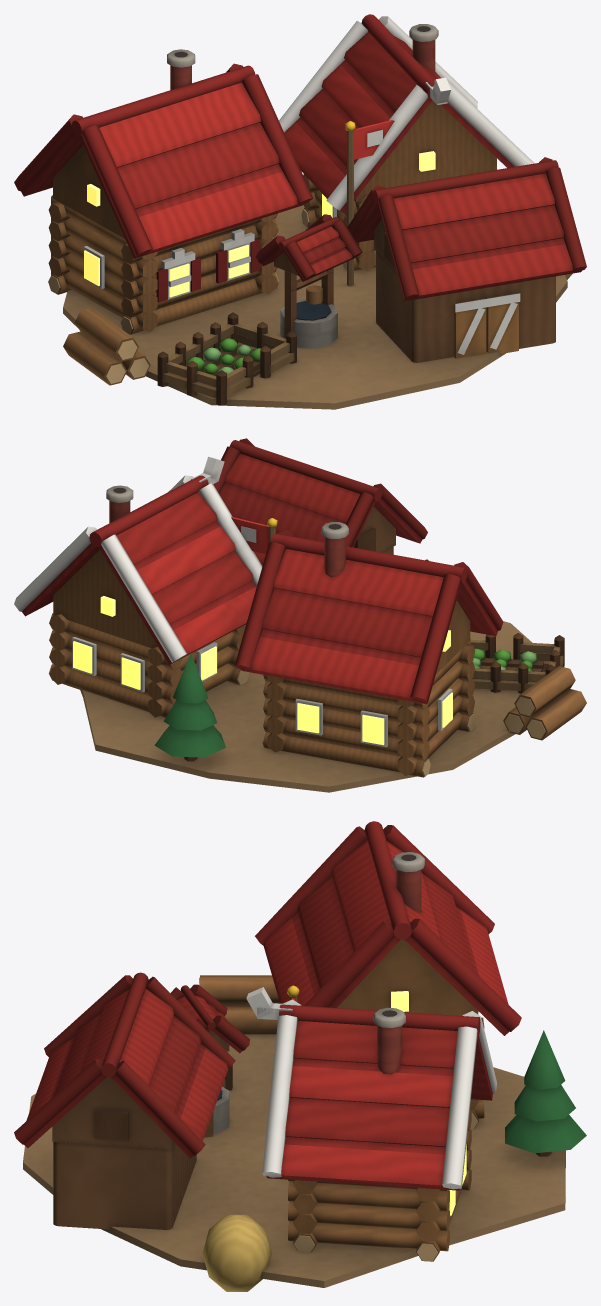
The model's file is city_dl2_red.glb.
The picture shows the model from 3 angles, top to bottom: view 1: azimuth 30°, elevation 25°; view 2: azimuth 150°, elevation 25°; view 3: azimuth 270°, elevation 25°; orthographic projection. The views are drawn at different scales.
Parts seen in each view (by area): view 1: city_dl2_red; view 2: city_dl2_red; view 3: city_dl2_red.
Part boxes in pixels (box(x1,y1,x2,y2)): city_dl2_red: box(14, 14, 586, 409); city_dl2_red: box(14, 438, 586, 792); city_dl2_red: box(14, 821, 586, 1291).
Bounding box in the file's own units: 1.48 × 0.7016 × 1.33.
Materials: 2 (1 with a texture image).
